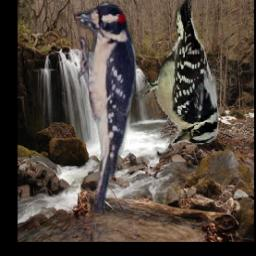Woodpecker: (75, 0, 139, 214), (135, 0, 220, 148)
